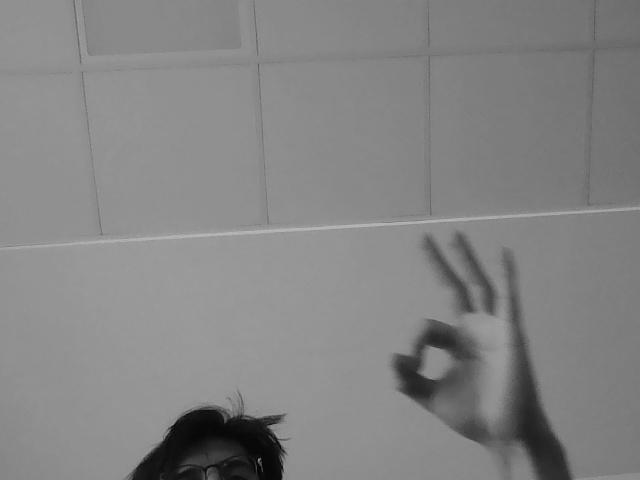OK: (382, 231, 548, 446)
